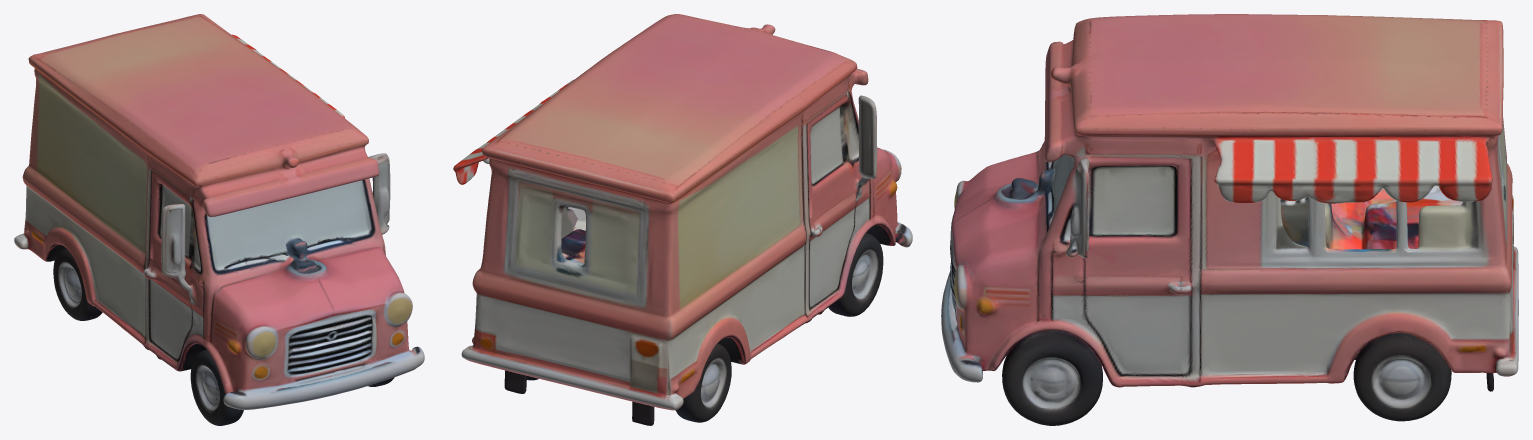
3 renders of one model, left to right at view 1: azimuth 30°, elevation 25°; view 2: azimuth 150°, elevation 25°; view 3: azimuth 270°, elevation 25°, orthographic. The views are drawn at different scales.
Parts seen in each view (by area): view 1: tripo_node_b114bdf5-64bd-4126-a4bb-3d755f49a2a1; view 2: tripo_node_b114bdf5-64bd-4126-a4bb-3d755f49a2a1; view 3: tripo_node_b114bdf5-64bd-4126-a4bb-3d755f49a2a1.
Boxes of the visible parts, left/top/right/bottom form: tripo_node_b114bdf5-64bd-4126-a4bb-3d755f49a2a1: left=14, top=14, right=424, bottom=425; tripo_node_b114bdf5-64bd-4126-a4bb-3d755f49a2a1: left=453, top=14, right=912, bottom=425; tripo_node_b114bdf5-64bd-4126-a4bb-3d755f49a2a1: left=941, top=14, right=1518, bottom=425.
Size of the model in its own units: 55.45 by 57.45 by 94.65.
Materials: 1 (1 with a texture image).
